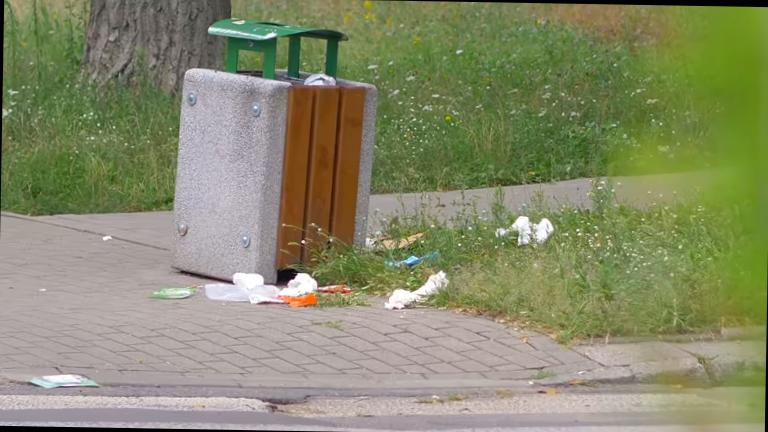trash: (203, 268, 317, 318), (381, 268, 460, 314), (494, 209, 552, 249), (26, 366, 95, 398), (362, 226, 433, 254), (376, 248, 444, 276), (148, 280, 197, 310), (298, 63, 338, 92), (316, 275, 351, 294)
trash_can_overflow: (146, 11, 398, 326)
